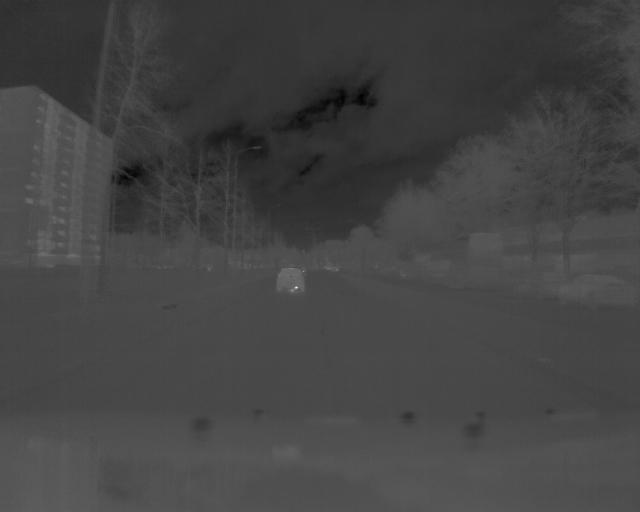car: (559, 274, 635, 314), (276, 268, 305, 294)
